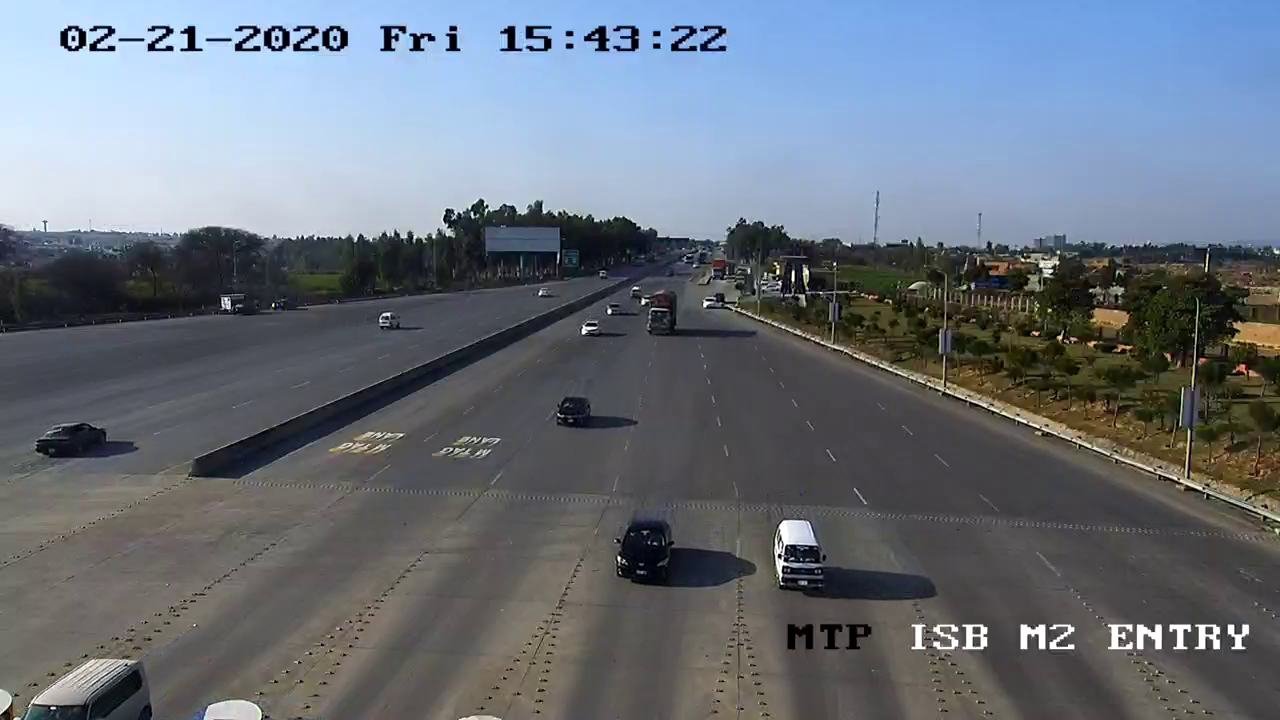f1: (603, 509, 682, 592), (759, 516, 831, 601), (549, 384, 599, 435)
